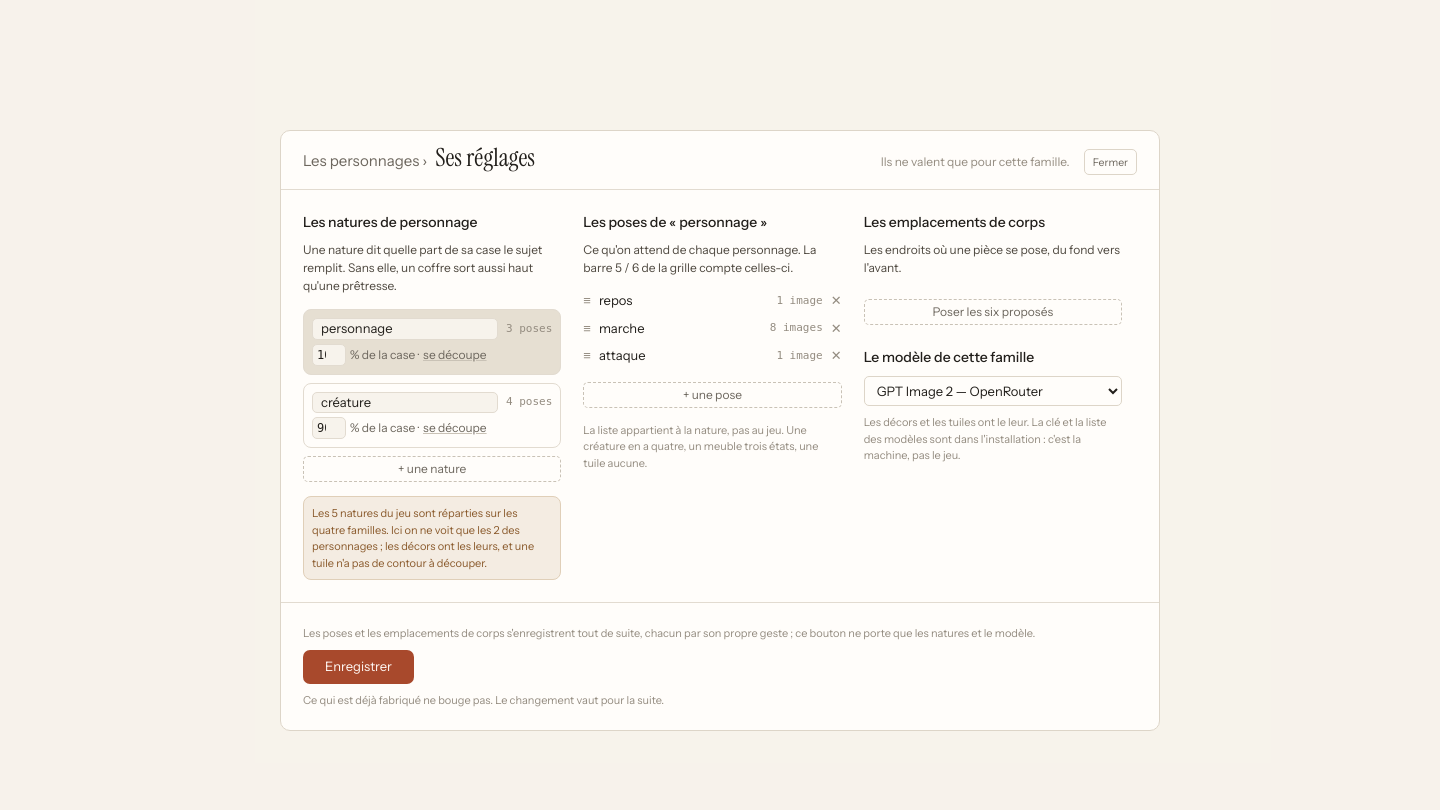
Test: les emplacements de corps › un jeu sans aucun emplacement propose de poser les six proposés
This screenshot has width=1440, height=810.
Click the button "Poser les six proposés" at (993, 312), box [864, 300, 1122, 326]
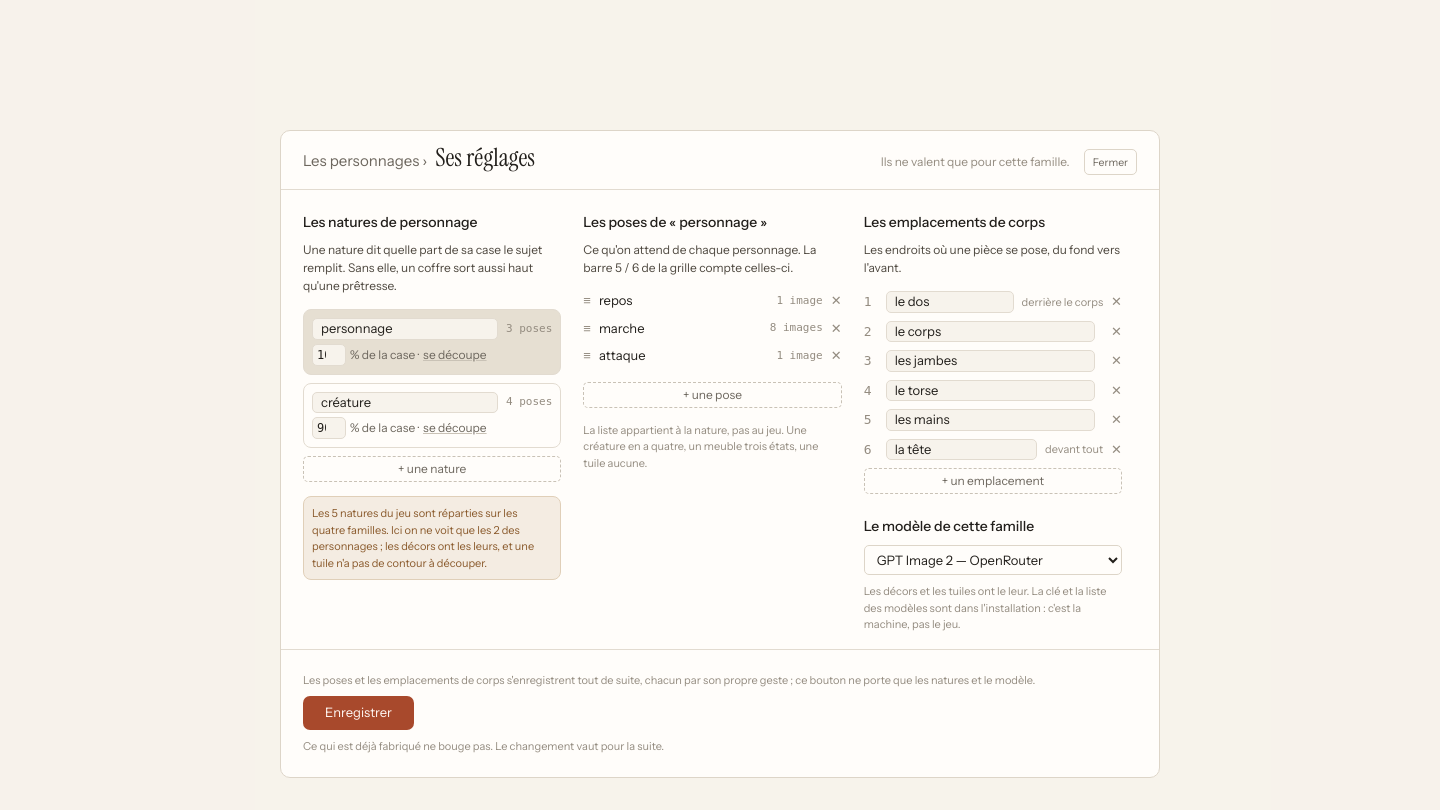
Check: the field showing "le dos" is shown, box [886, 292, 1014, 313]
